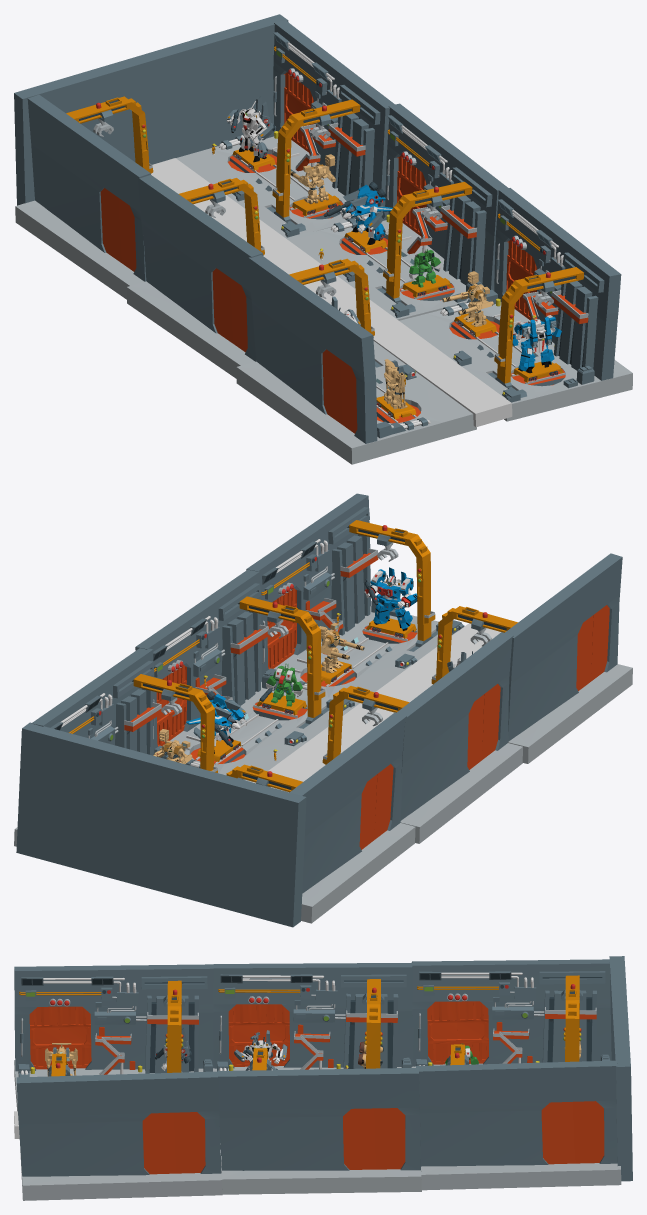
The model's file is sd_macross_factory.glb.
The picture shows the model from 3 angles, top to bottom: view 1: azimuth 30°, elevation 25°; view 2: azimuth 150°, elevation 25°; view 3: azimuth 270°, elevation 25°; orthographic projection. The views are drawn at different scales.
Visible parts, largest first — view 1: node_MeshObject-465078272-PolyPaper21_8, node_MeshObject-1617984512-PolyPaper13_4, node_MeshObject-473826304-PolyPaper16_9, node_MeshObject1242411008-PolyPaper21_13, node_MeshObject98252800-PolyPaper15_22, node_MeshObject670331904-PolyPaper15_18, node_MeshObject1814490112-PolyPaper12_15, node_MeshObject679079936-PolyPaper5_19, node_MeshObject-1336318976-PolyPaper17_3, node_MeshObject-482574336-PolyPaper21_10, node_MeshObject-192160768-PolyPaper16_7, node_MeshObject379918336-PolyPaper18_17 (+4 smaller); view 2: node_MeshObject-465078272-PolyPaper21_8, node_MeshObject-1617984512-PolyPaper13_4, node_MeshObject-473826304-PolyPaper16_9, node_MeshObject1242411008-PolyPaper21_13, node_MeshObject98252800-PolyPaper15_22, node_MeshObject670331904-PolyPaper15_18, node_MeshObject1814490112-PolyPaper12_15, node_MeshObject679079936-PolyPaper5_19, node_MeshObject-1336318976-PolyPaper17_3, node_MeshObject-482574336-PolyPaper21_10, node_MeshObject-1037157376-PolyPaper21_0, node_MeshObject1524076544-PolyPaper18_14 (+2 smaller); view 3: node_MeshObject-465078272-PolyPaper21_8, node_MeshObject-1617984512-PolyPaper13_4, node_MeshObject-473826304-PolyPaper16_9, node_MeshObject670331904-PolyPaper15_18, node_MeshObject98252800-PolyPaper15_22, node_MeshObject1242411008-PolyPaper21_13, node_MeshObject-482574336-PolyPaper21_10, node_MeshObject1814490112-PolyPaper12_15, node_MeshObject-1336318976-PolyPaper17_3, node_MeshObject107000832-PolyPaper21_12, node_MeshObject679079936-PolyPaper5_19.
Part boxes in pixels (x1,y1,x2,y2): node_MeshObject-465078272-PolyPaper21_8: [14, 14, 621, 402]; node_MeshObject-1617984512-PolyPaper13_4: [126, 220, 536, 464]; node_MeshObject-473826304-PolyPaper16_9: [340, 103, 632, 421]; node_MeshObject1242411008-PolyPaper21_13: [15, 94, 528, 345]; node_MeshObject98252800-PolyPaper15_22: [138, 175, 480, 361]; node_MeshObject670331904-PolyPaper15_18: [176, 20, 561, 354]; node_MeshObject1814490112-PolyPaper12_15: [218, 32, 380, 237]; node_MeshObject679079936-PolyPaper5_19: [151, 143, 585, 427]; node_MeshObject-1336318976-PolyPaper17_3: [322, 193, 430, 438]; node_MeshObject-482574336-PolyPaper21_10: [93, 96, 555, 361]; node_MeshObject-192160768-PolyPaper16_7: [323, 182, 493, 409]; node_MeshObject379918336-PolyPaper18_17: [385, 271, 489, 407]; node_MeshObject-465078272-PolyPaper21_8: [16, 493, 464, 927]; node_MeshObject-1617984512-PolyPaper13_4: [170, 553, 632, 843]; node_MeshObject-473826304-PolyPaper16_9: [135, 507, 458, 764]; node_MeshObject1242411008-PolyPaper21_13: [226, 577, 484, 923]; node_MeshObject98252800-PolyPaper15_22: [227, 611, 513, 820]; node_MeshObject670331904-PolyPaper15_18: [14, 579, 410, 846]; node_MeshObject1814490112-PolyPaper12_15: [50, 661, 245, 780]; node_MeshObject679079936-PolyPaper5_19: [168, 526, 500, 792]; node_MeshObject-1336318976-PolyPaper17_3: [193, 615, 593, 753]; node_MeshObject-482574336-PolyPaper21_10: [246, 597, 403, 849]; node_MeshObject-1037157376-PolyPaper21_0: [364, 567, 412, 629]; node_MeshObject1524076544-PolyPaper18_14: [260, 663, 303, 706]; node_MeshObject-465078272-PolyPaper21_8: [16, 956, 632, 1181]; node_MeshObject-1617984512-PolyPaper13_4: [14, 964, 421, 1194]; node_MeshObject-473826304-PolyPaper16_9: [20, 1046, 420, 1200]; node_MeshObject670331904-PolyPaper15_18: [249, 1049, 621, 1190]; node_MeshObject98252800-PolyPaper15_22: [181, 962, 581, 1069]; node_MeshObject1242411008-PolyPaper21_13: [217, 959, 611, 1071]; node_MeshObject-482574336-PolyPaper21_10: [416, 976, 610, 1065]; node_MeshObject1814490112-PolyPaper12_15: [219, 994, 604, 1164]; node_MeshObject-1336318976-PolyPaper17_3: [18, 996, 212, 1077]; node_MeshObject107000832-PolyPaper21_12: [234, 1030, 348, 1070]; node_MeshObject679079936-PolyPaper5_19: [14, 1040, 347, 1138].
Size of the model in its own units: 5.59 by 2.51 by 11.08.
